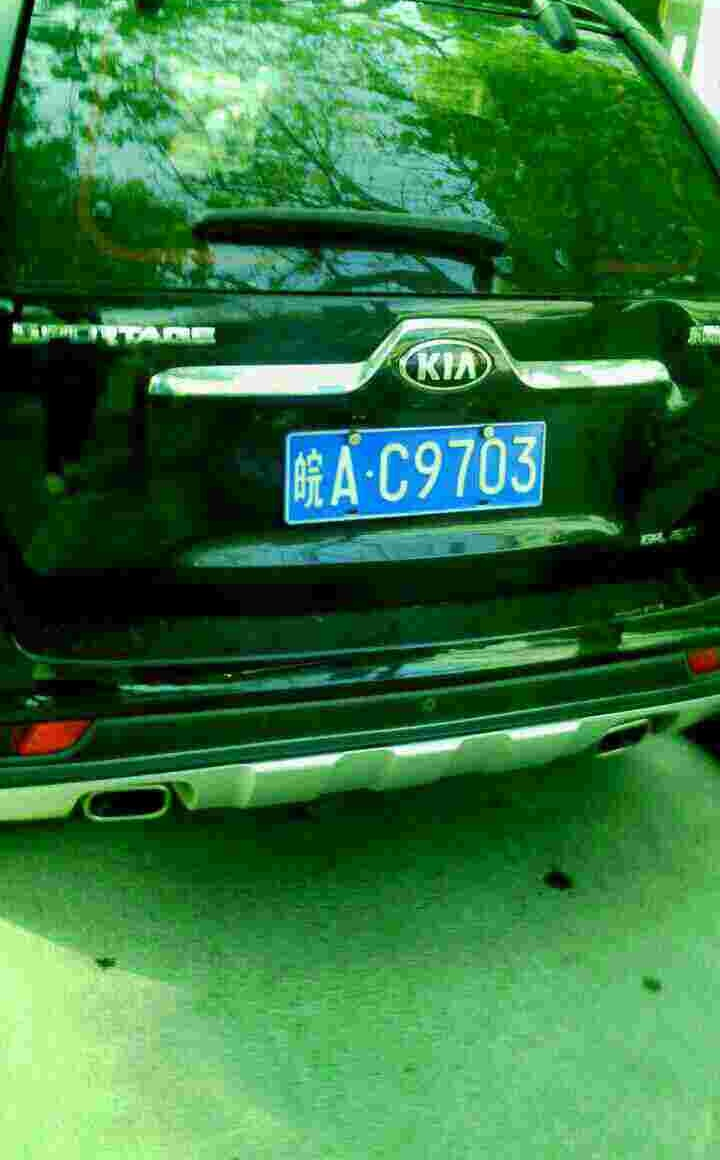license_plate: (279, 420, 553, 533)
